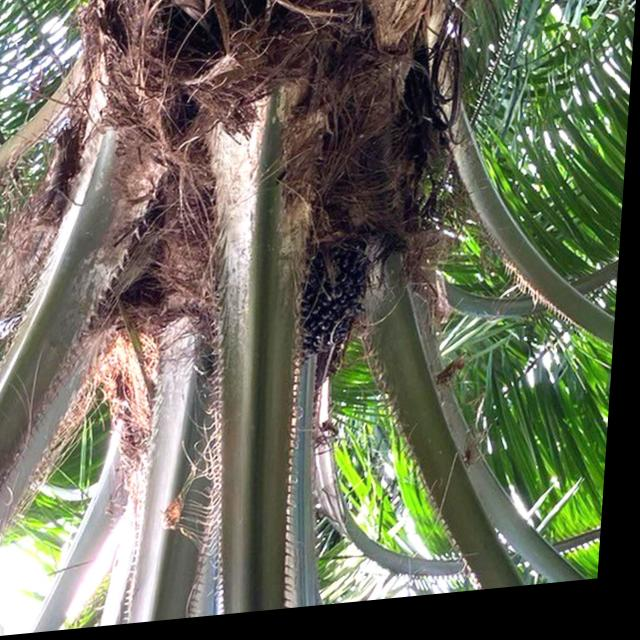unripe: (288, 218, 388, 375)
